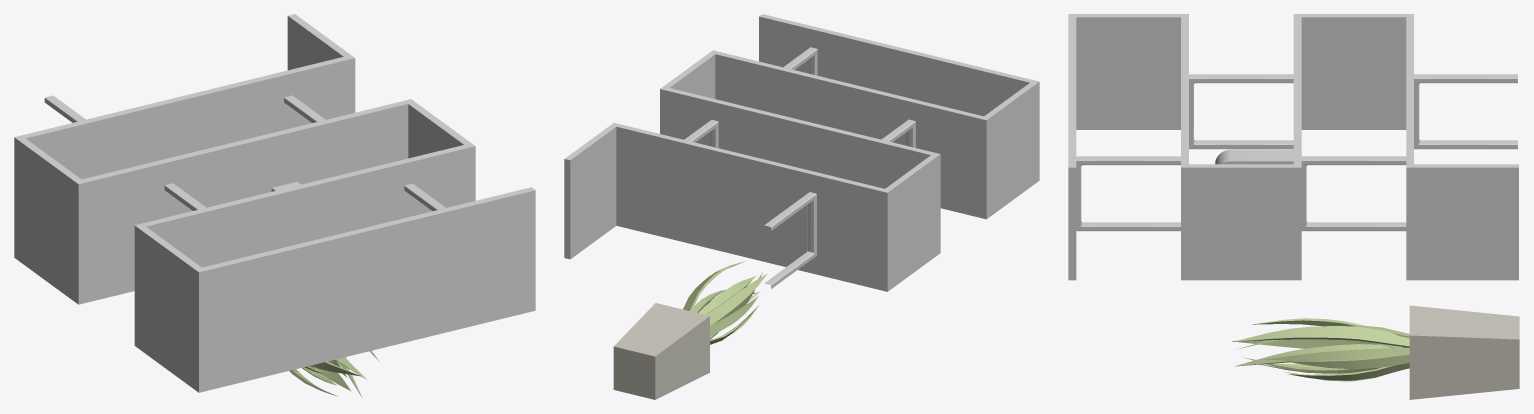
3 renders of one model, left to right at view 1: azimuth 30°, elevation 25°; view 2: azimuth 150°, elevation 25°; view 3: azimuth 270°, elevation 25°, orthographic. The views are drawn at different scales.
Parts seen in each view (by area): view 1: LOD 0_9349224857173253257_9f73f2b44b4d1f845949e963dff5a984; view 2: LOD 0_9349224857173253257_9f73f2b44b4d1f845949e963dff5a984; view 3: LOD 0_9349224857173253257_9f73f2b44b4d1f845949e963dff5a984.
Part boxes in pixels (x1,y1,x2,y2): LOD 0_9349224857173253257_9f73f2b44b4d1f845949e963dff5a984: (14,14,535,398); LOD 0_9349224857173253257_9f73f2b44b4d1f845949e963dff5a984: (564,14,1039,399); LOD 0_9349224857173253257_9f73f2b44b4d1f845949e963dff5a984: (1068,14,1519,399).
Size of the model in its own units: 0.016 by 0.0125 by 0.0199.
